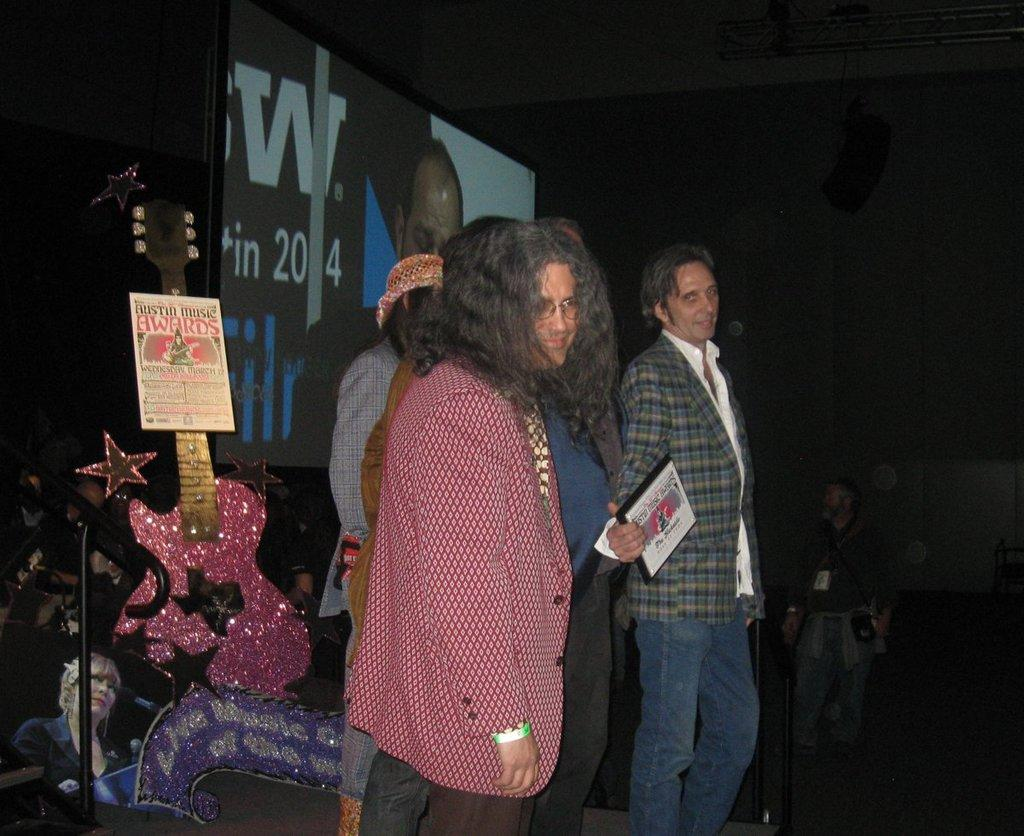Sem Máscara: (528, 265, 579, 370), (664, 260, 718, 342)
